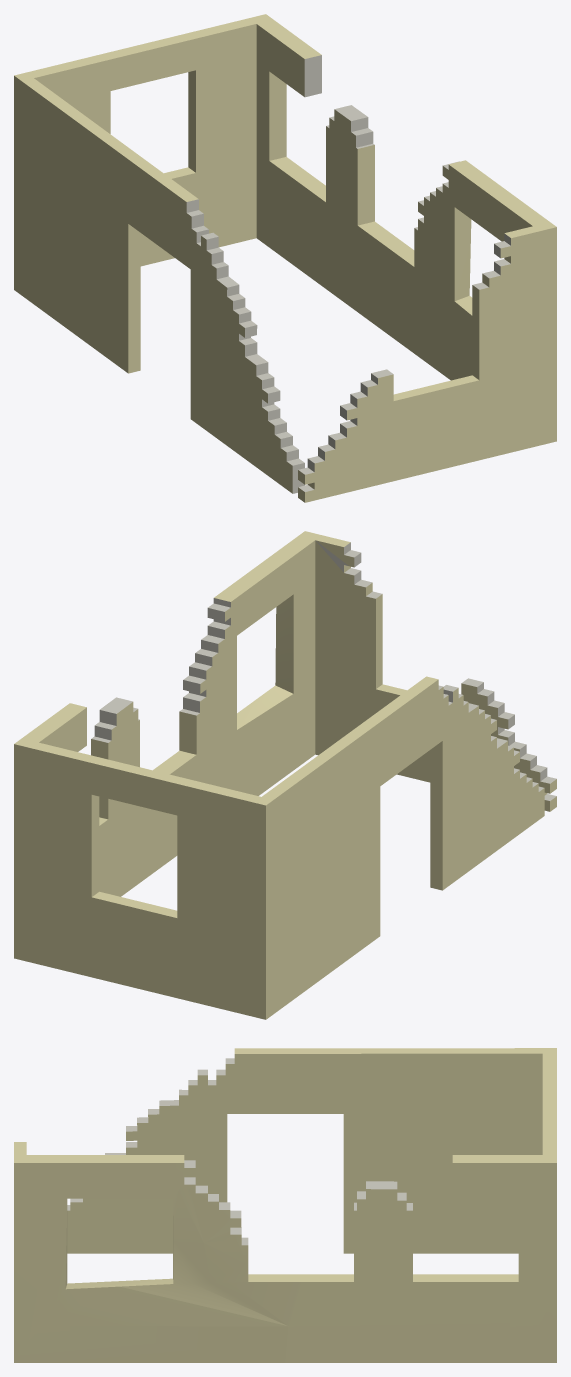
Rendered from BrickBuilding.fbx.
3 renders of one model, top to bottom at view 1: azimuth 30°, elevation 25°; view 2: azimuth 150°, elevation 25°; view 3: azimuth 270°, elevation 25°, orthographic. The views are drawn at different scales.
Parts seen in each view (by area): view 1: DestroyedBuilding:pasted__pCube16; view 2: DestroyedBuilding:pasted__pCube16; view 3: DestroyedBuilding:pasted__pCube16.
Part boxes in pixels (bbox=[...]): DestroyedBuilding:pasted__pCube16: bbox=[14, 14, 556, 502]; DestroyedBuilding:pasted__pCube16: bbox=[14, 531, 556, 1019]; DestroyedBuilding:pasted__pCube16: bbox=[14, 1048, 556, 1362].
Size of the model in its own units: 328 by 265 by 651.
